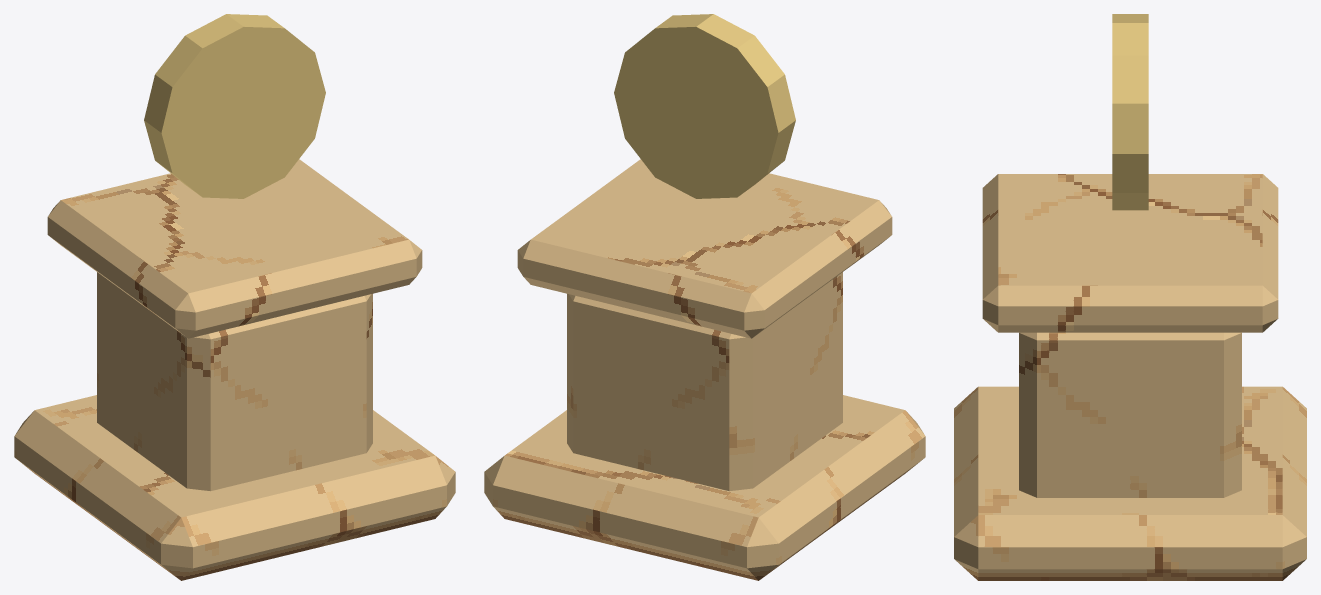
File: pilar_galeao.fbx
The picture shows the model from 3 angles, left to right: view 1: azimuth 30°, elevation 25°; view 2: azimuth 150°, elevation 25°; view 3: azimuth 270°, elevation 25°; orthographic projection. The views are drawn at different scales.
Parts seen in each view (by area): view 1: deserto_pilar_galeao; view 2: deserto_pilar_galeao; view 3: deserto_pilar_galeao.
Part boxes in pixels (x1=…): deserto_pilar_galeao: x1=14, y1=14, x2=455, y2=580; deserto_pilar_galeao: x1=484, y1=14, x2=925, y2=580; deserto_pilar_galeao: x1=954, y1=14, x2=1306, y2=580.
Size of the model in its own units: 68 by 105 by 68.
Materials: 2 (1 with a texture image).
